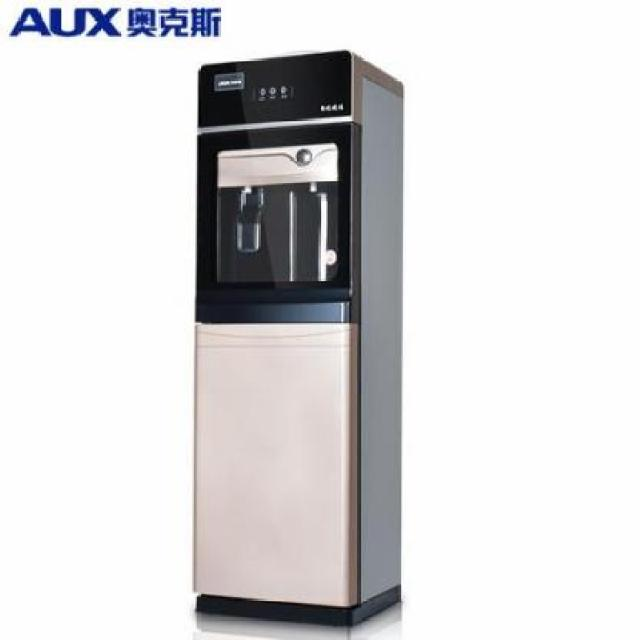cooler: (194, 49, 404, 628)
